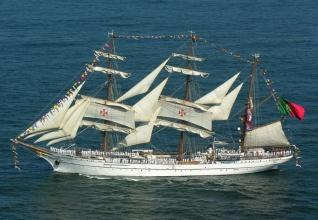fanchuan: (9, 33, 305, 176)
